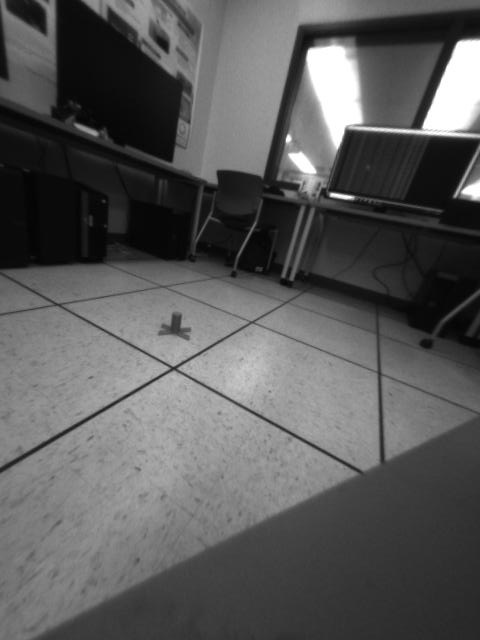X: (157, 312, 191, 340)
